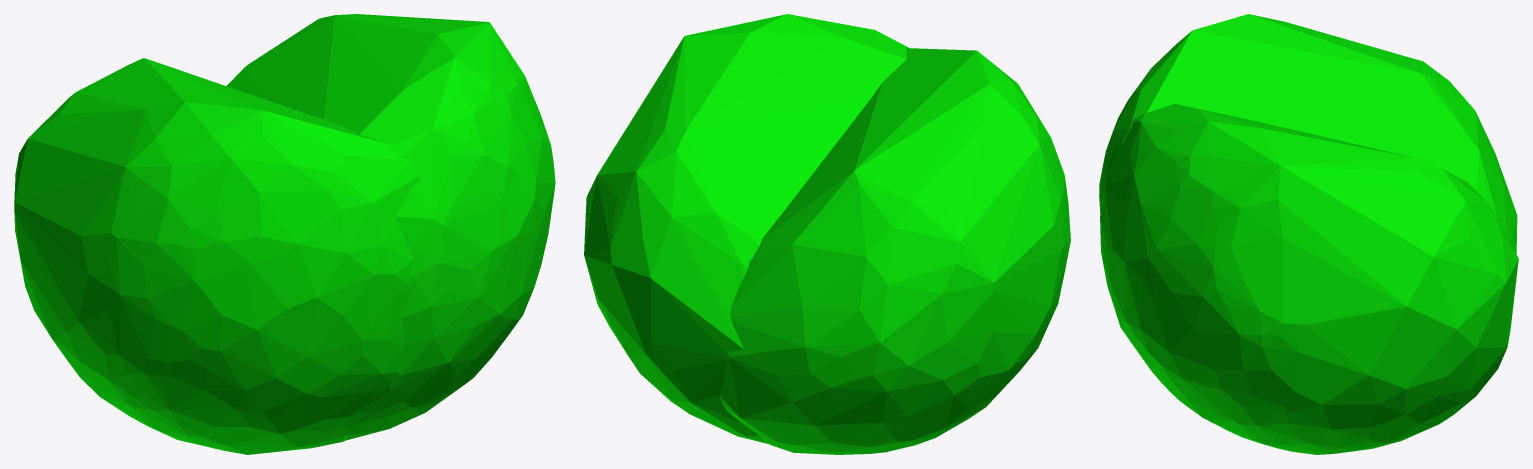
Rendered from spiderman-pelvis_view.dae.
The picture shows the model from 3 angles, left to right: view 1: azimuth 30°, elevation 25°; view 2: azimuth 150°, elevation 25°; view 3: azimuth 270°, elevation 25°; orthographic projection. The views are drawn at different scales.
Visible parts, largest first — view 1: rhand_rom, lfoot_rom; view 2: rhand_rom, lfoot_rom; view 3: lfoot_rom, rhand_rom.
Part boxes in pixels (x1,y1,x2,y2): rhand_rom: (14, 58, 420, 454); lfoot_rom: (226, 14, 555, 440); rhand_rom: (719, 48, 1070, 454); lfoot_rom: (584, 14, 908, 443); lfoot_rom: (1100, 104, 1518, 454); rhand_rom: (1099, 14, 1517, 253).
Size of the model in its own units: 2.18 by 1.92 by 1.78.
